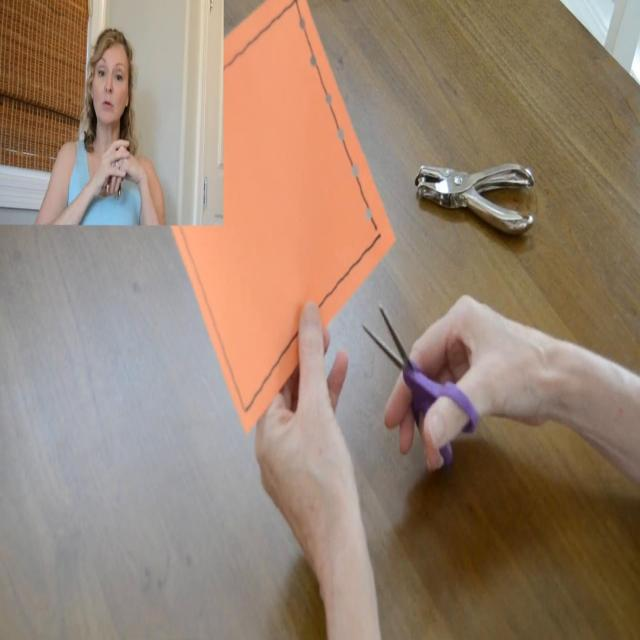scissor: (364, 305, 472, 459)
